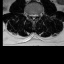CCS_normal: (32, 11, 34, 22)
LFS_normal: (36, 11, 38, 18)
LLS_normal: (34, 11, 36, 19)
RFS_normal: (28, 11, 30, 18)
RLS_normal: (30, 11, 32, 18)
